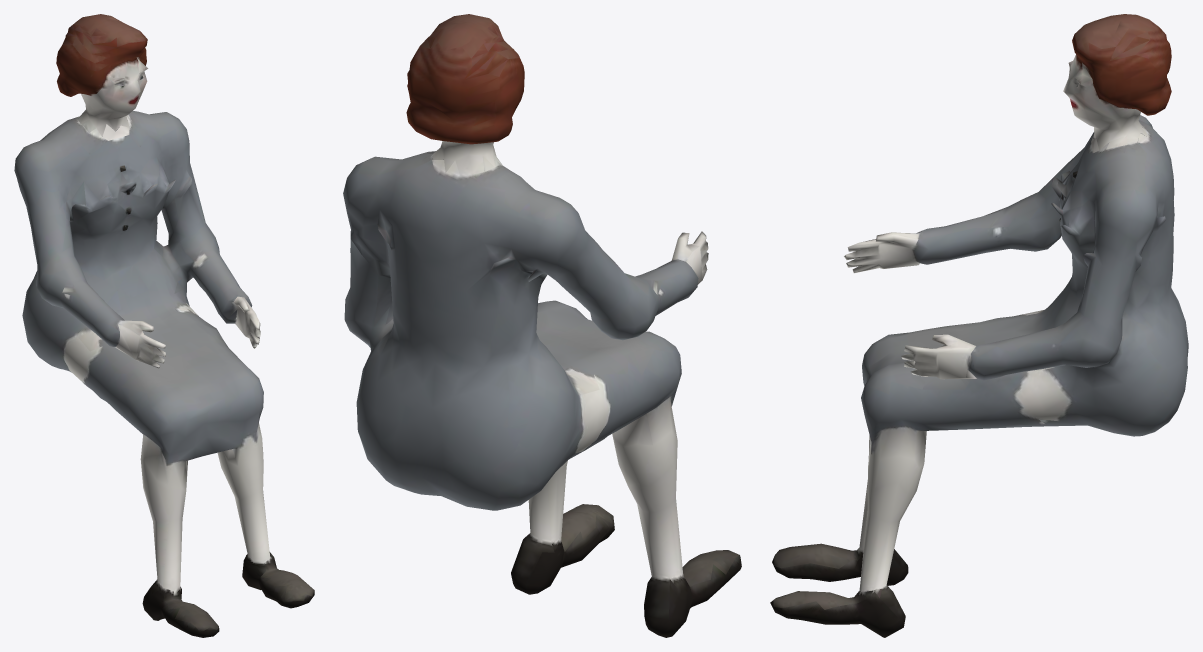
Rendered from mq_woman_sit-low.glb.
3 renders of one model, left to right at view 1: azimuth 30°, elevation 25°; view 2: azimuth 150°, elevation 25°; view 3: azimuth 270°, elevation 25°, orthographic. The views are drawn at different scales.
Parts seen in each view (by area): view 1: mq_woman_sit-low, mq_woman_sit_head-low; view 2: mq_woman_sit-low, mq_woman_sit_head-low; view 3: mq_woman_sit-low, mq_woman_sit_head-low.
Part boxes in pixels (x1=…): mq_woman_sit-low: x1=14, y1=111, x2=314, y2=637; mq_woman_sit_head-low: x1=56, y1=14, x2=148, y2=136; mq_woman_sit-low: x1=343, y1=151, x2=741, y2=637; mq_woman_sit_head-low: x1=406, y1=14, x2=524, y2=175; mq_woman_sit-low: x1=770, y1=115, x2=1188, y2=637; mq_woman_sit_head-low: x1=1063, y1=14, x2=1171, y2=152.
Size of the model in its own units: 0.5471 by 1.35 by 0.8599.
Materials: 1 (1 with a texture image).
